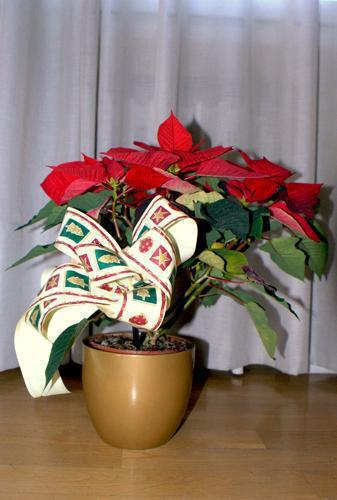Matera: (9, 115, 327, 452)
